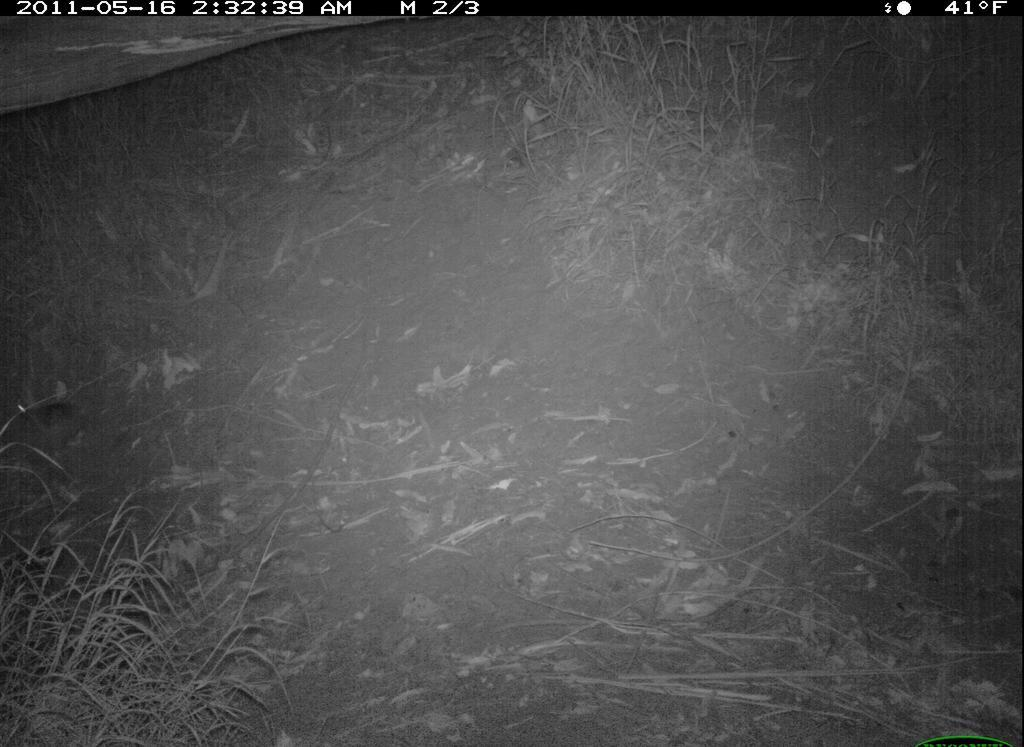rabbit: (8, 379, 107, 479)
